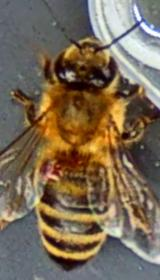varroa_mite: (34, 154, 66, 188)
